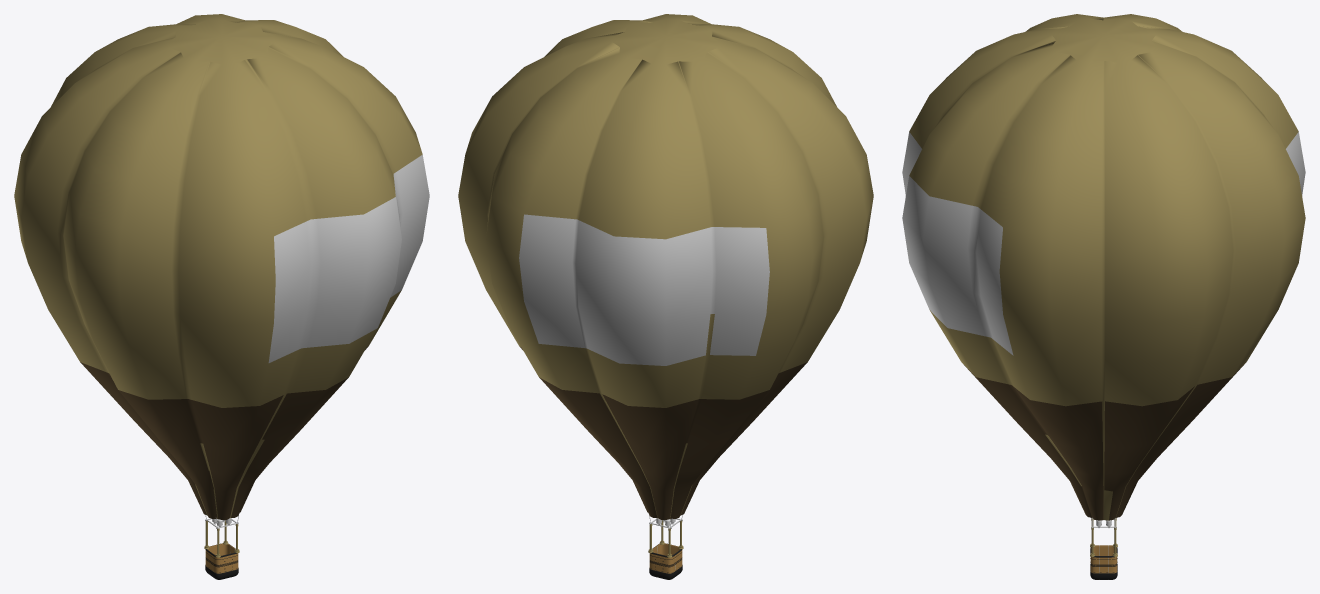
Rendered from luchtballon.dae.
The picture shows the model from 3 angles, left to right: view 1: azimuth 30°, elevation 25°; view 2: azimuth 150°, elevation 25°; view 3: azimuth 270°, elevation 25°; orthographic projection.
Parts seen in each view (by area): view 1: Sphere, Circle; view 2: Sphere, Circle; view 3: Sphere, Circle.
Boxes of the visible parts, x1=… form: Sphere: x1=14, y1=14, x2=429, y2=519; Circle: x1=204, y1=515, x2=239, y2=579; Sphere: x1=458, y1=14, x2=873, y2=519; Circle: x1=648, y1=515, x2=683, y2=579; Sphere: x1=902, y1=14, x2=1305, y2=520; Circle: x1=1090, y1=517, x2=1117, y2=579.
Bounding box in the file's own units: 22.42 × 22.42 × 33.16.
